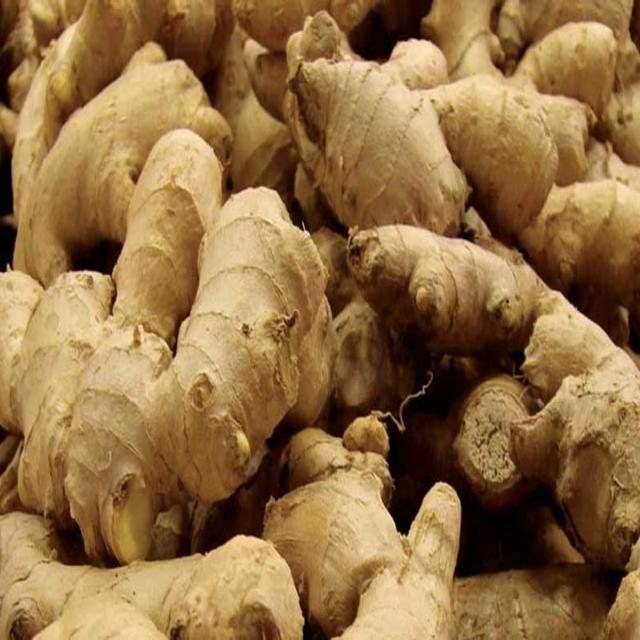ginger: (16, 27, 346, 566), (372, 47, 630, 603)
